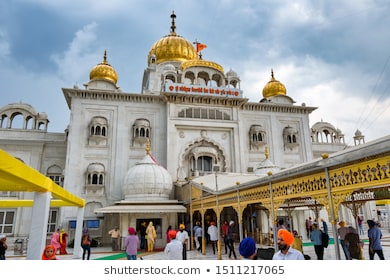Gurdwara: (17, 19, 339, 249)
